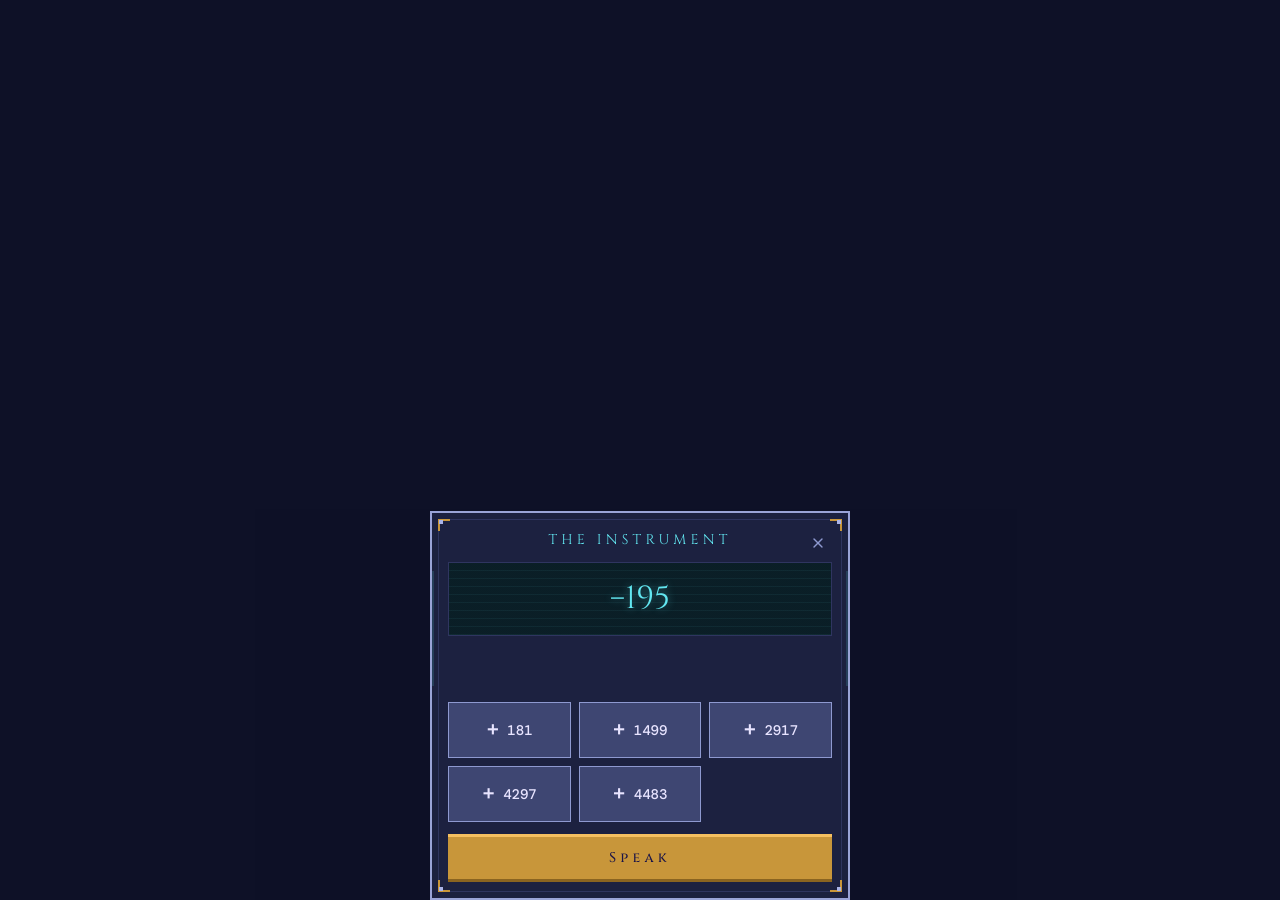
console Præm puzzle › zero attempts enters the server lockout
This screenshot has width=1280, height=900.
Click the button "Speak".
click(640, 858)  # box [448,834,832,882]
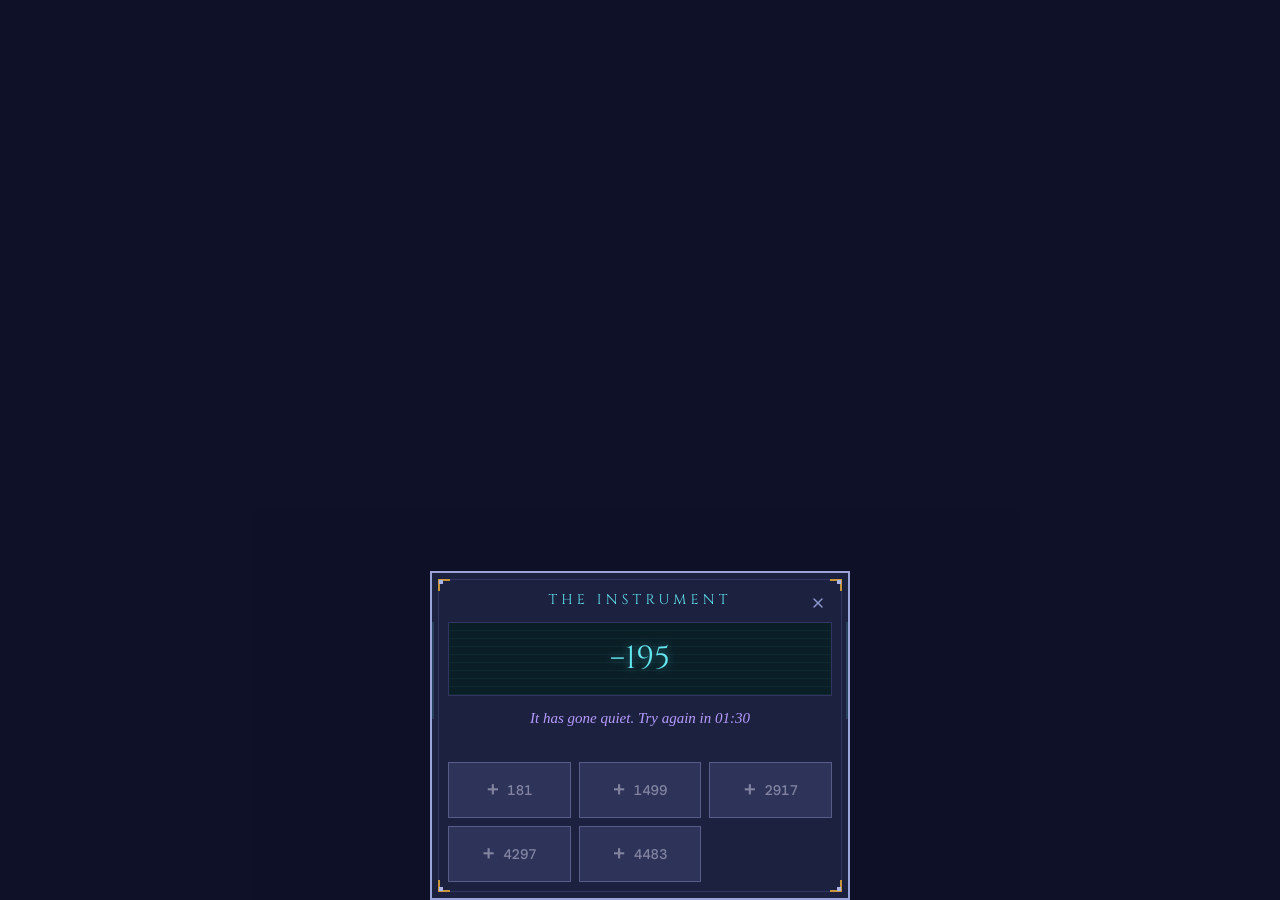
Expected: the message shows "01:30", [530,710,750,726]
Expected: the button "Speak" is gone
